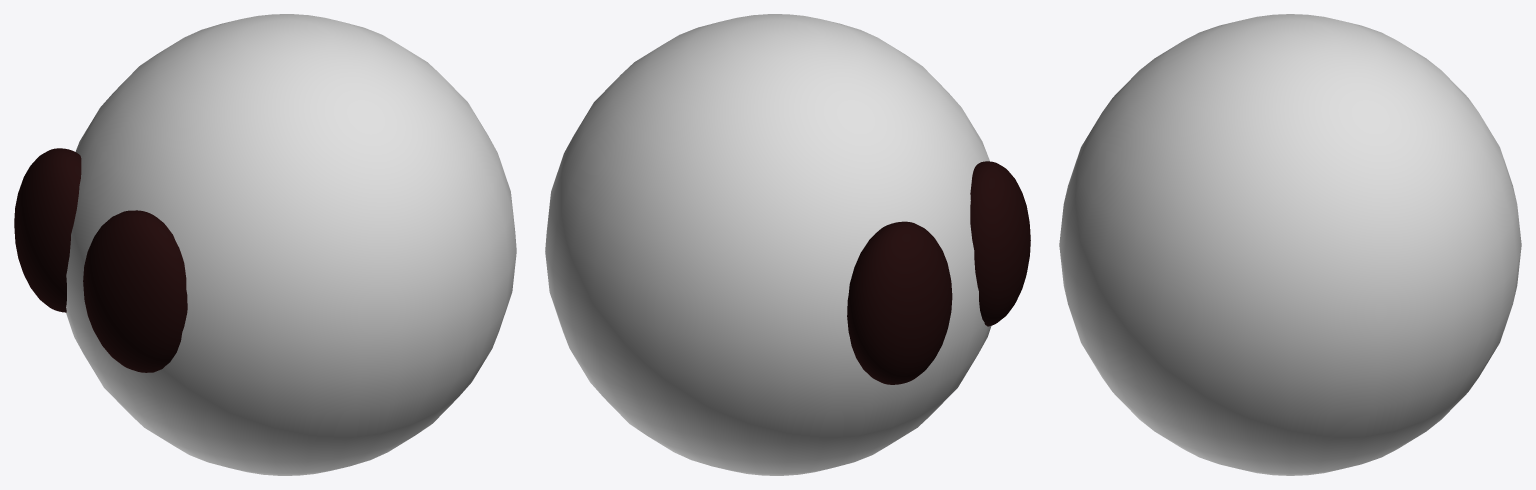
File: wisp_v3.FBX
3 views of the same model, side by side, from view 1: azimuth 30°, elevation 25°; view 2: azimuth 150°, elevation 25°; view 3: azimuth 270°, elevation 25° (orthographic).
Visible parts, largest first — view 1: Sphere111, Sphere112; view 2: Sphere111, Sphere112; view 3: Sphere111.
Boxes of the visible parts, box(x1,y1,x2,y2) form: Sphere111: box(66, 14, 516, 475); Sphere112: box(14, 148, 187, 372); Sphere111: box(545, 14, 991, 475); Sphere112: box(847, 161, 1030, 384); Sphere111: box(1059, 14, 1521, 475).
Bounding box in the file's own units: 74.83 × 71.67 × 71.67.
